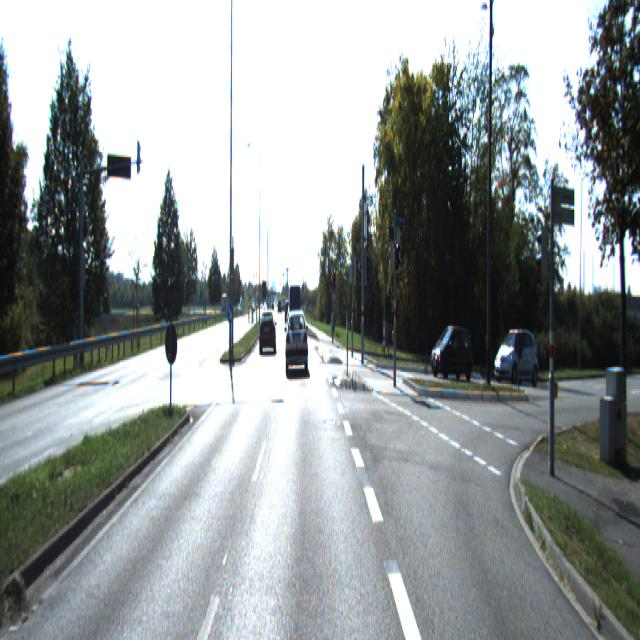Car: (492, 324, 540, 386), (432, 324, 474, 382), (286, 315, 308, 376), (259, 314, 277, 360), (289, 282, 302, 339)
